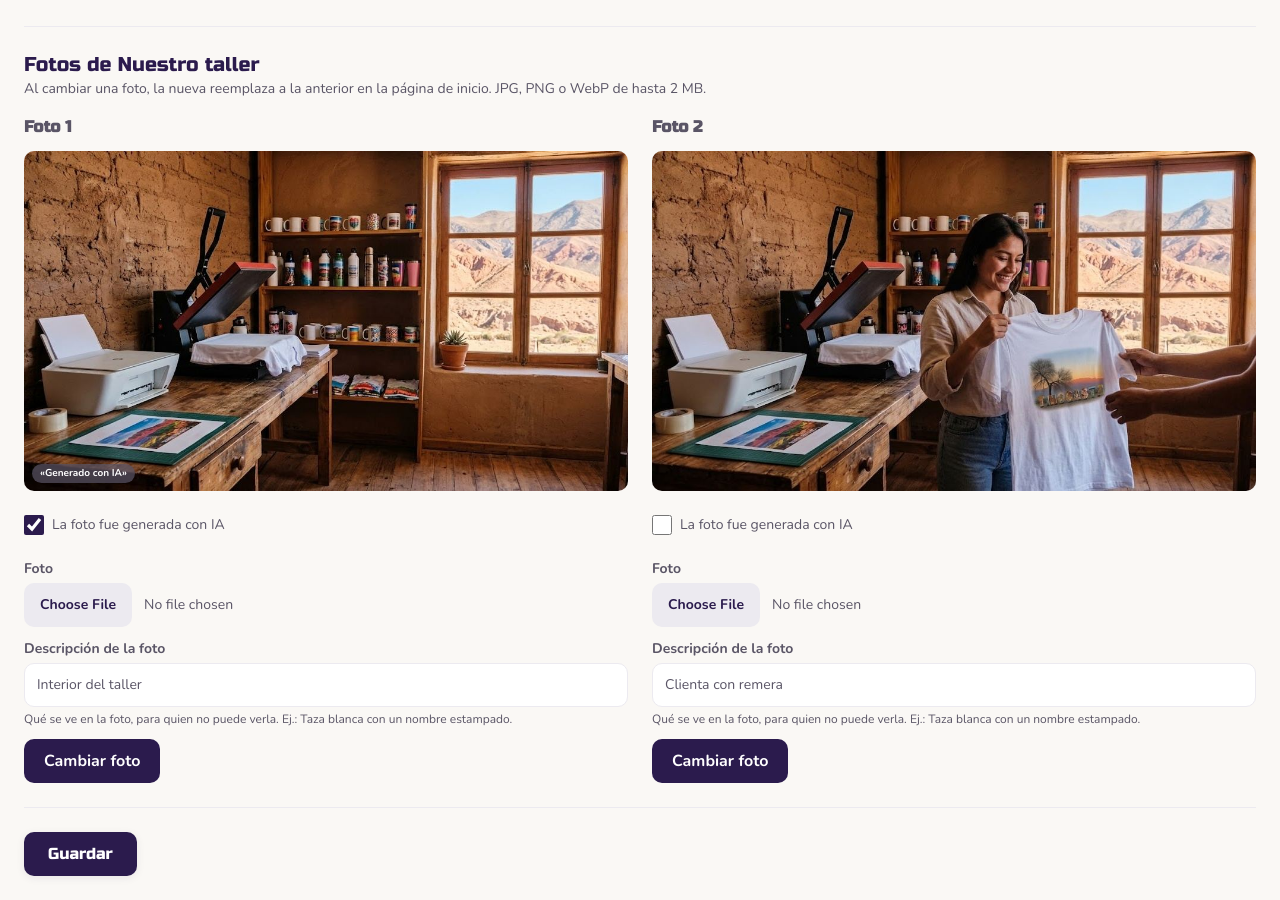
Scenario: EditorTaller › B4-R6 · deshabilita el botón mientras guarda
The image size is (1280, 900).
(page scrolled)
Click the button "Guardar": (80, 854) [24, 832, 137, 876]
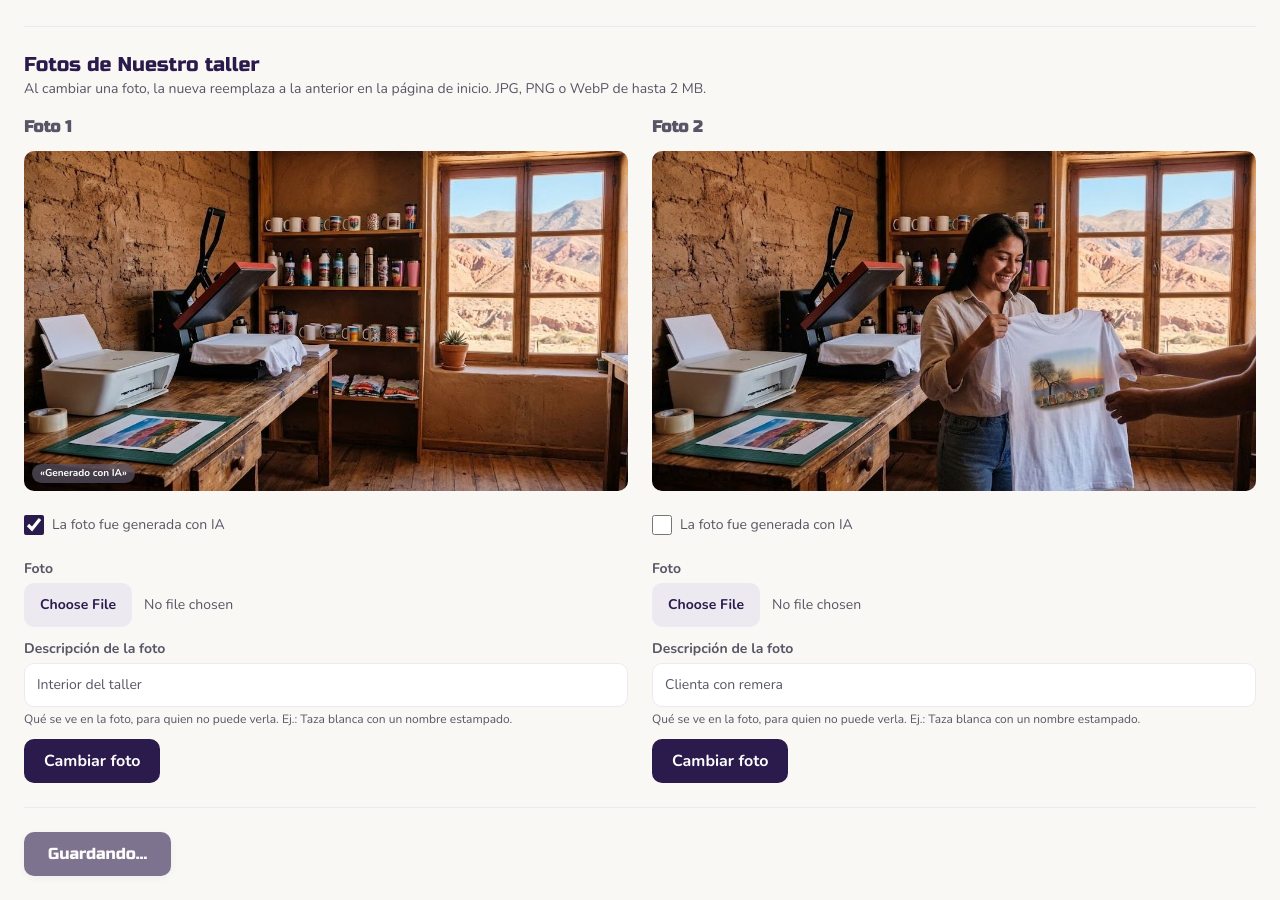
Expected: the button "Guardando…" is disabled, [24, 832, 171, 876]
